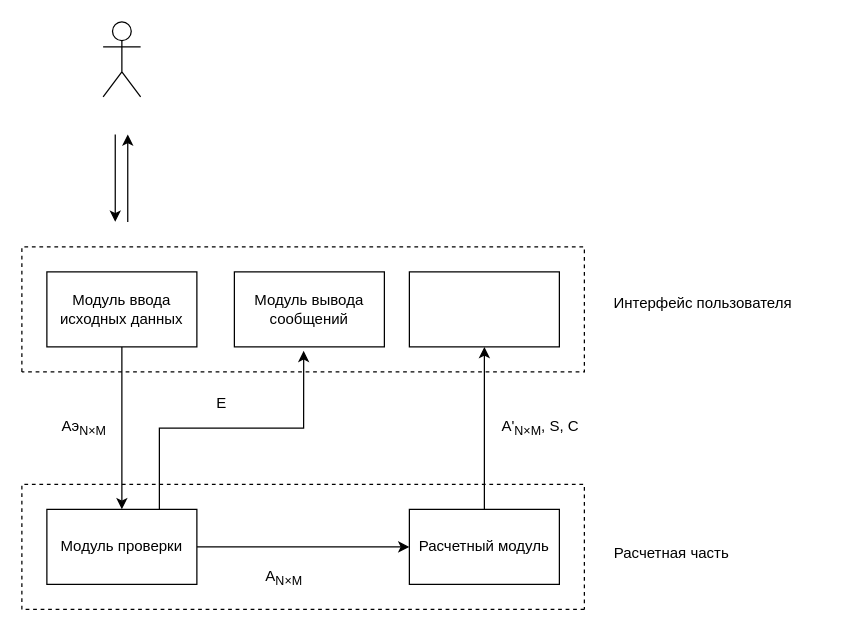
Some shapes in this 844 by 633 pixel diagram are drawn without their labels. The shapes that lost their labels are listed below. From the top down, each one's centre as x and y in pixels, then its label:
At point (121, 59): "Пользователь".
At point (483, 309): "Модуль вывода результата".
